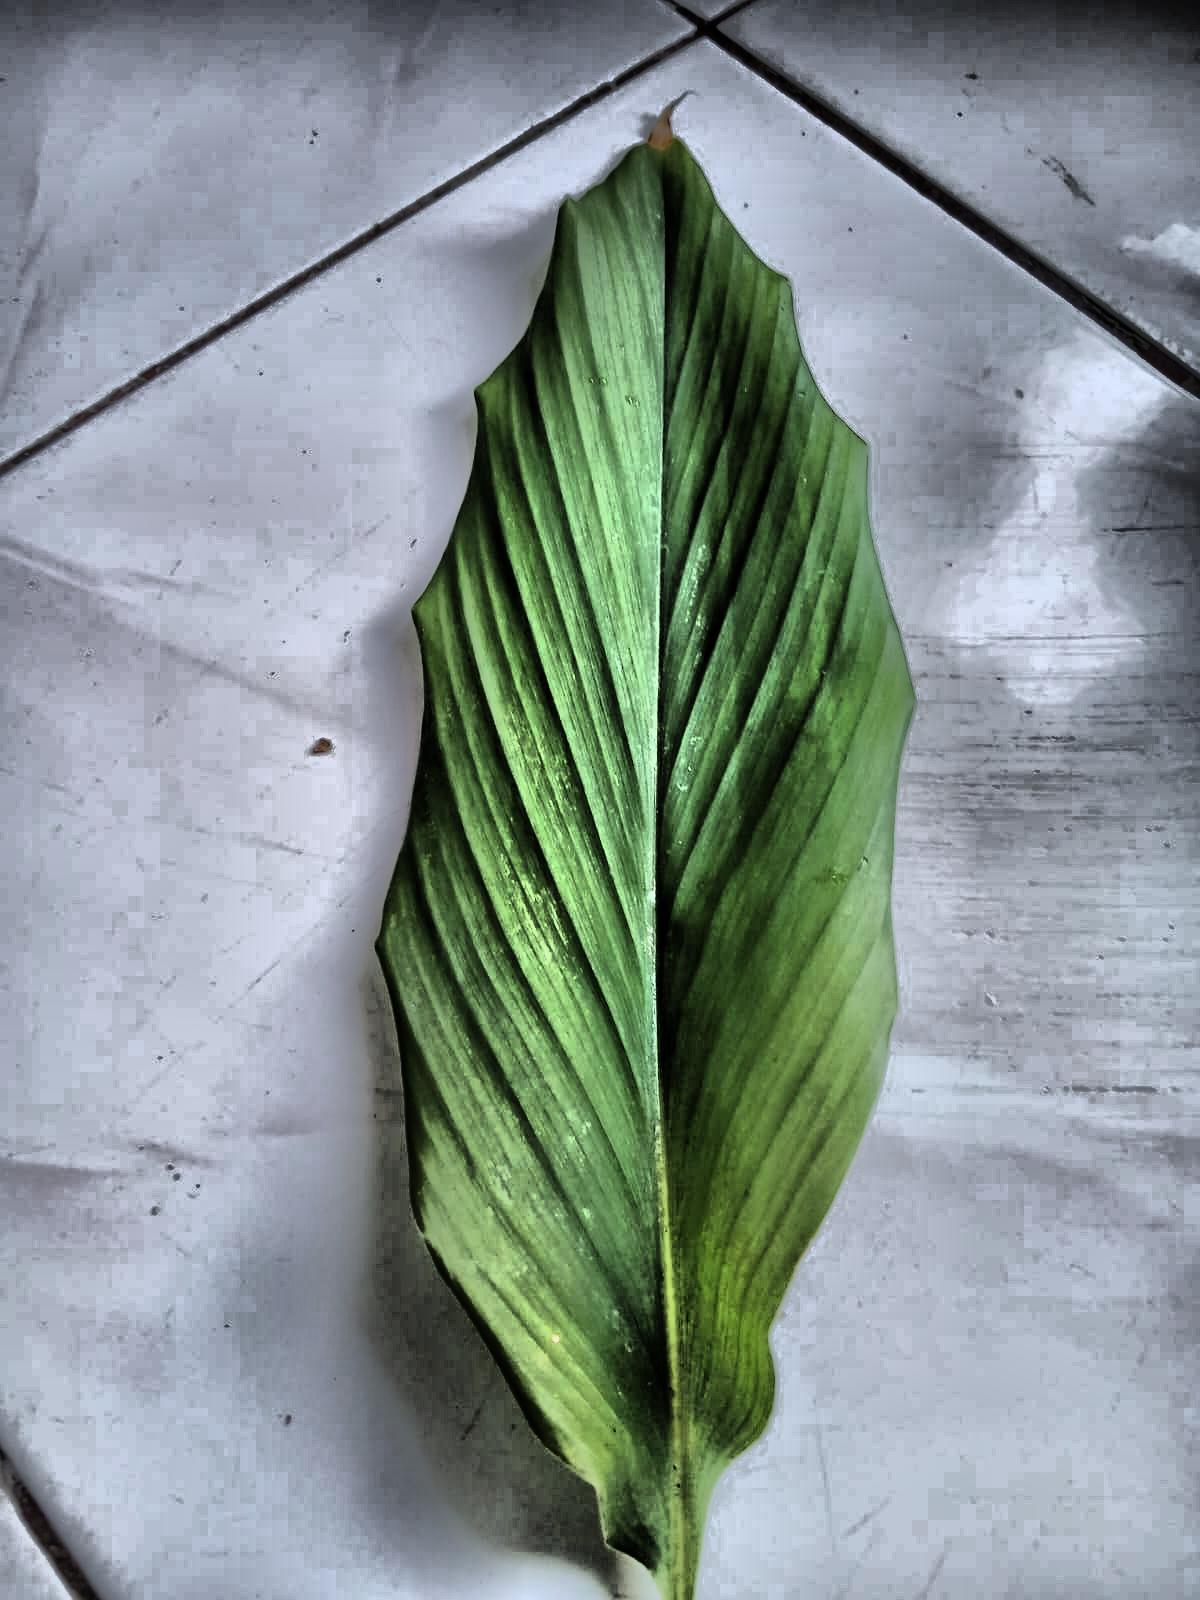daun kunyit: (378, 121, 913, 1599)
